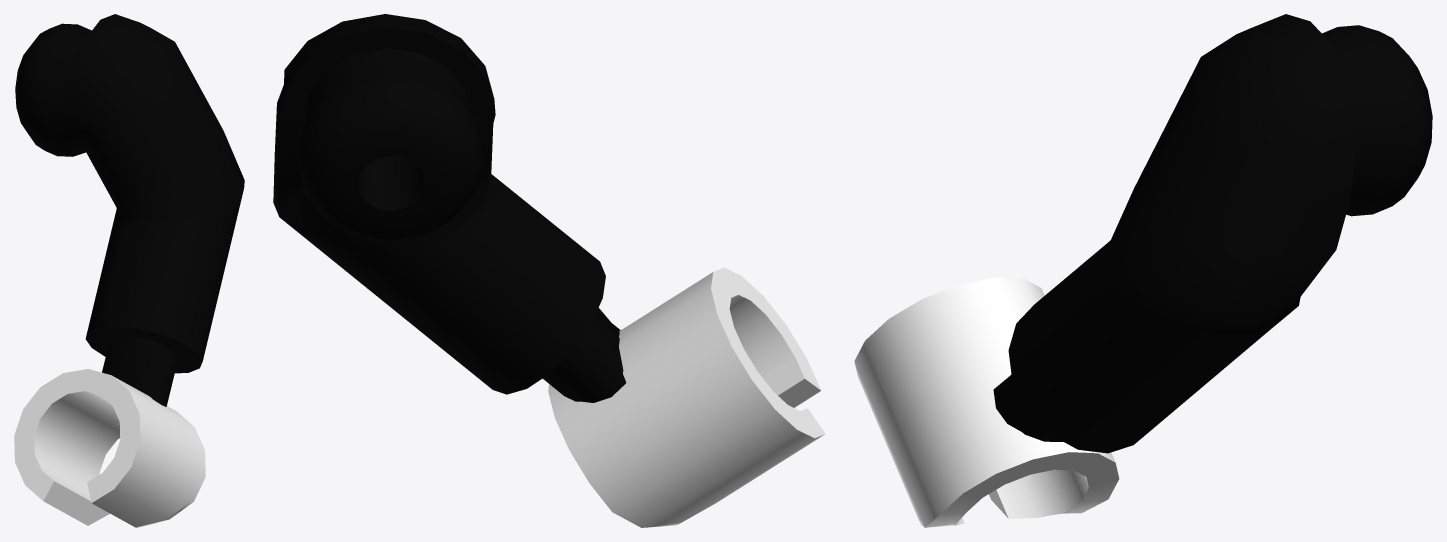
File: person2BrazoI.obj
3 views of the same model, side by side, from view 1: azimuth 30°, elevation 25°; view 2: azimuth 150°, elevation 25°; view 3: azimuth 270°, elevation 25° (orthographic). The views are drawn at different scales.
Parts seen in each view (by area): view 1: person1:legocharacter2lhand7 group1, group1 person1:lhand14legocharacter2, group1 person1:legocharacter2lhand8; view 2: person1:legocharacter2lhand7 group1, group1 person1:lhand14legocharacter2, group1 person1:legocharacter2lhand8; view 3: person1:legocharacter2lhand7 group1, group1 person1:lhand14legocharacter2, group1 person1:legocharacter2lhand8.
Boxes of the visible parts, box(x1,y1,x2,y2) form: person1:legocharacter2lhand7 group1: box(15, 14, 244, 373); group1 person1:lhand14legocharacter2: box(14, 369, 205, 527); group1 person1:legocharacter2lhand8: box(102, 337, 178, 406); person1:legocharacter2lhand7 group1: box(273, 14, 605, 394); group1 person1:lhand14legocharacter2: box(548, 267, 825, 527); group1 person1:legocharacter2lhand8: box(543, 308, 626, 402); person1:legocharacter2lhand7 group1: box(1008, 14, 1432, 453); group1 person1:lhand14legocharacter2: box(854, 277, 1119, 527); group1 person1:legocharacter2lhand8: box(993, 375, 1062, 441).
Size of the model in its own units: 0.634 by 0.8128 by 0.7446.
Materials: 3 (3 with a texture image).
